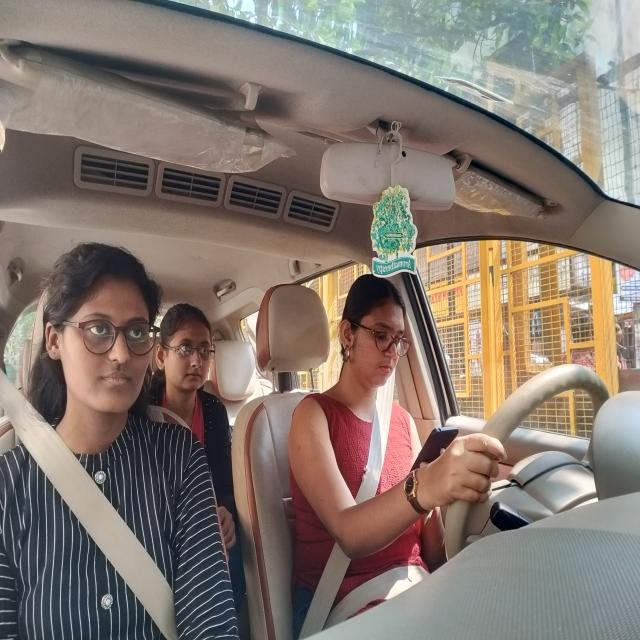mobile: (420, 414, 459, 463)
person: (47, 246, 158, 420), (340, 275, 412, 395), (159, 300, 222, 406)
